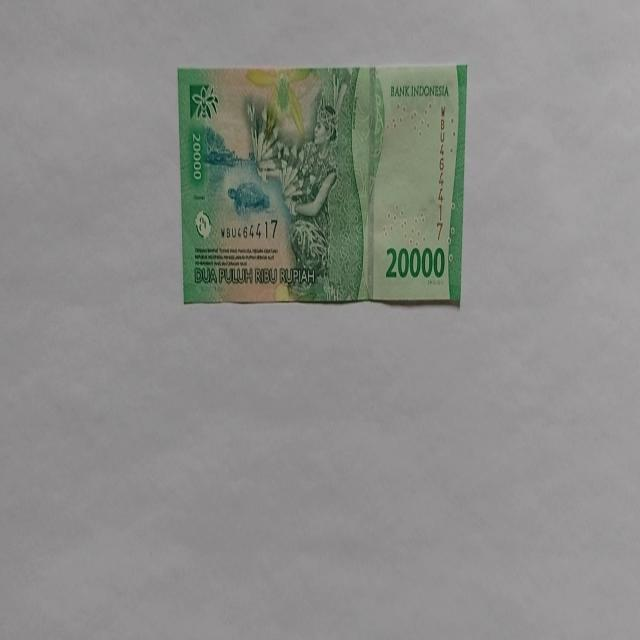dua puluh ribu rupiah: (177, 62, 467, 308), (245, 66, 383, 302)
